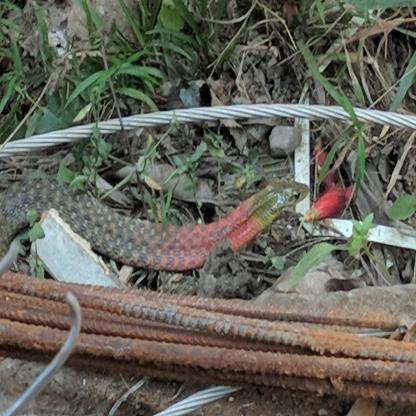Snake: (2, 167, 312, 274)
